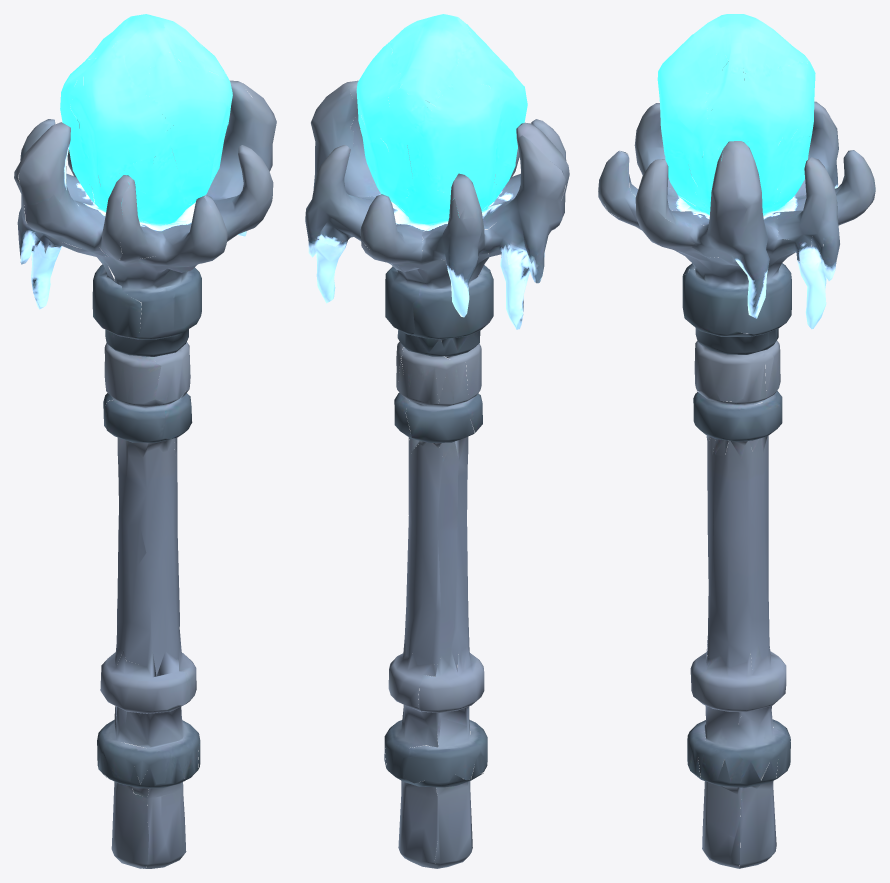
File: Arm_winter_staff-CWmpbMQM.glb
3 views of the same model, side by side, from view 1: azimuth 30°, elevation 25°; view 2: azimuth 150°, elevation 25°; view 3: azimuth 270°, elevation 25° (orthographic).
Parts seen in each view (by area): view 1: Arm_winter_staff; view 2: Arm_winter_staff; view 3: Arm_winter_staff.
Part boxes in pixels (x1,y1,x2,y2): Arm_winter_staff: (14,14,276,868); Arm_winter_staff: (305,14,569,868); Arm_winter_staff: (598,14,875,868).
Size of the model in its own units: 0.7495 by 2.4 by 0.7161.
Materials: 1 (1 with a texture image).
